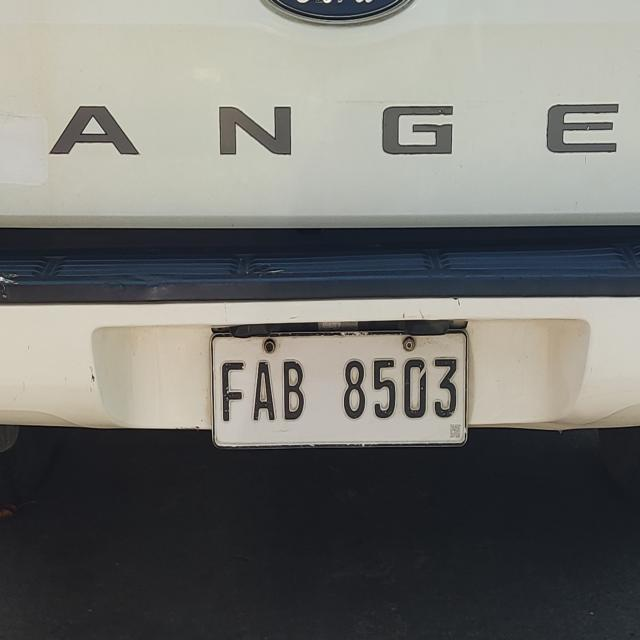LicensePlate: (188, 320, 474, 450)
